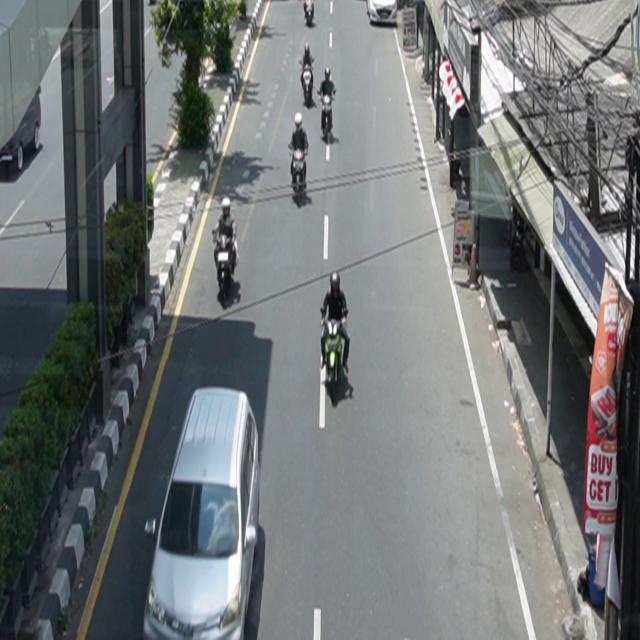car: (144, 387, 262, 640)
